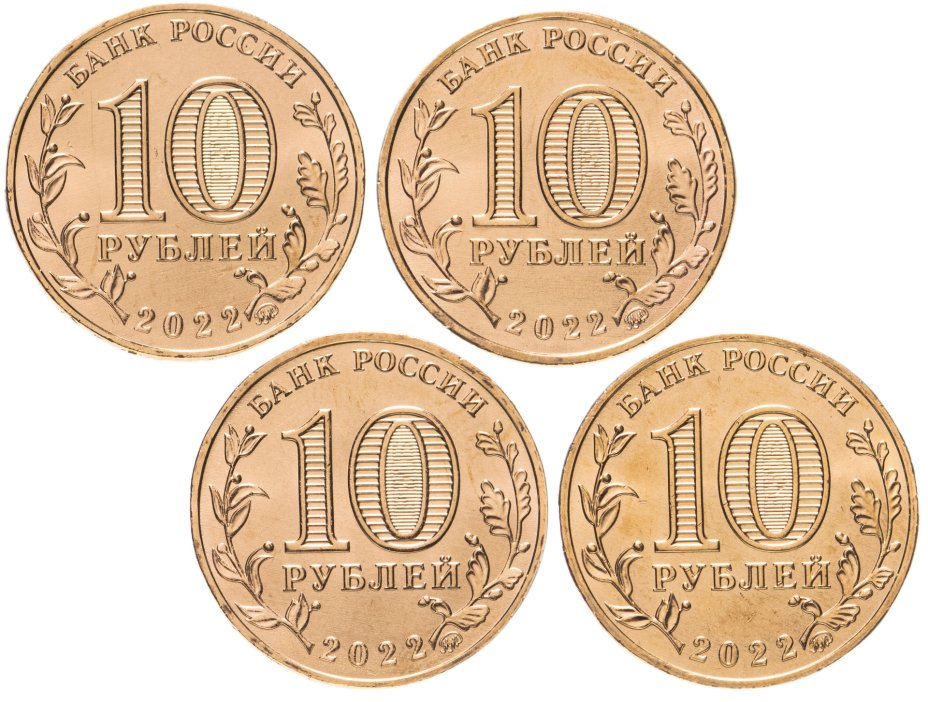coin: (7, 4, 365, 364), (376, 12, 738, 368), (560, 336, 920, 690), (190, 333, 547, 686)
